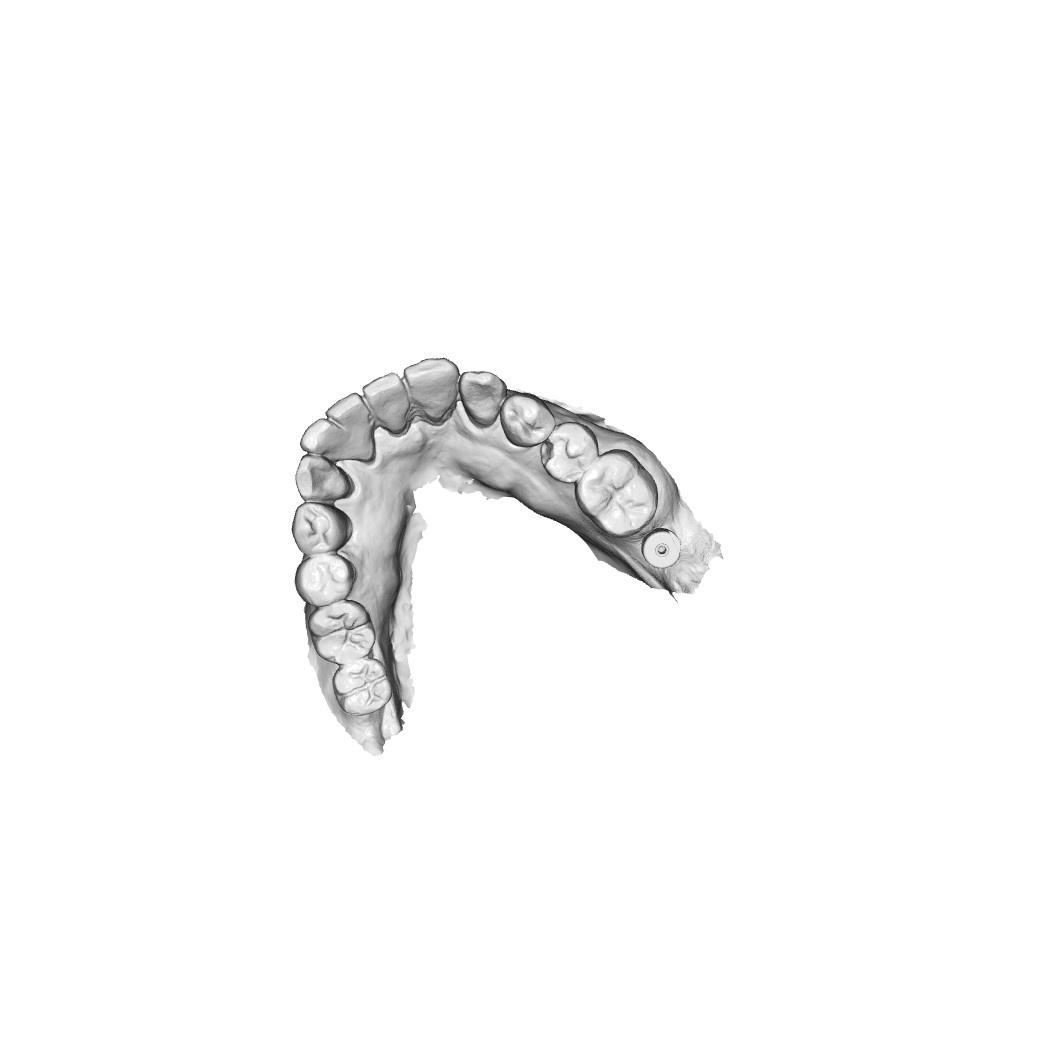canine: (459, 368, 511, 429), (297, 452, 352, 503)
implant: (642, 526, 681, 571)
incisor: (402, 356, 461, 423), (359, 370, 413, 436), (323, 394, 374, 449), (301, 417, 352, 464)
molar: (575, 448, 659, 537), (305, 599, 377, 667), (330, 658, 393, 718)
premolar: (536, 419, 601, 485), (292, 553, 358, 609), (290, 502, 352, 559), (495, 392, 556, 449)
